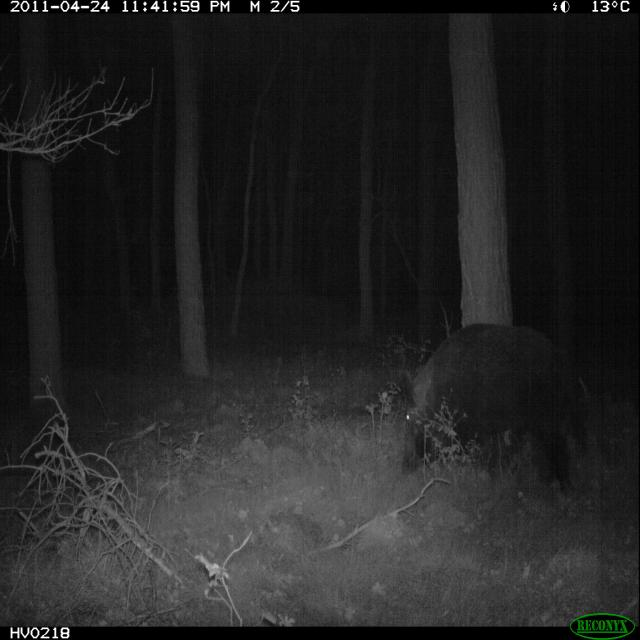boar: (360, 306, 600, 530)
